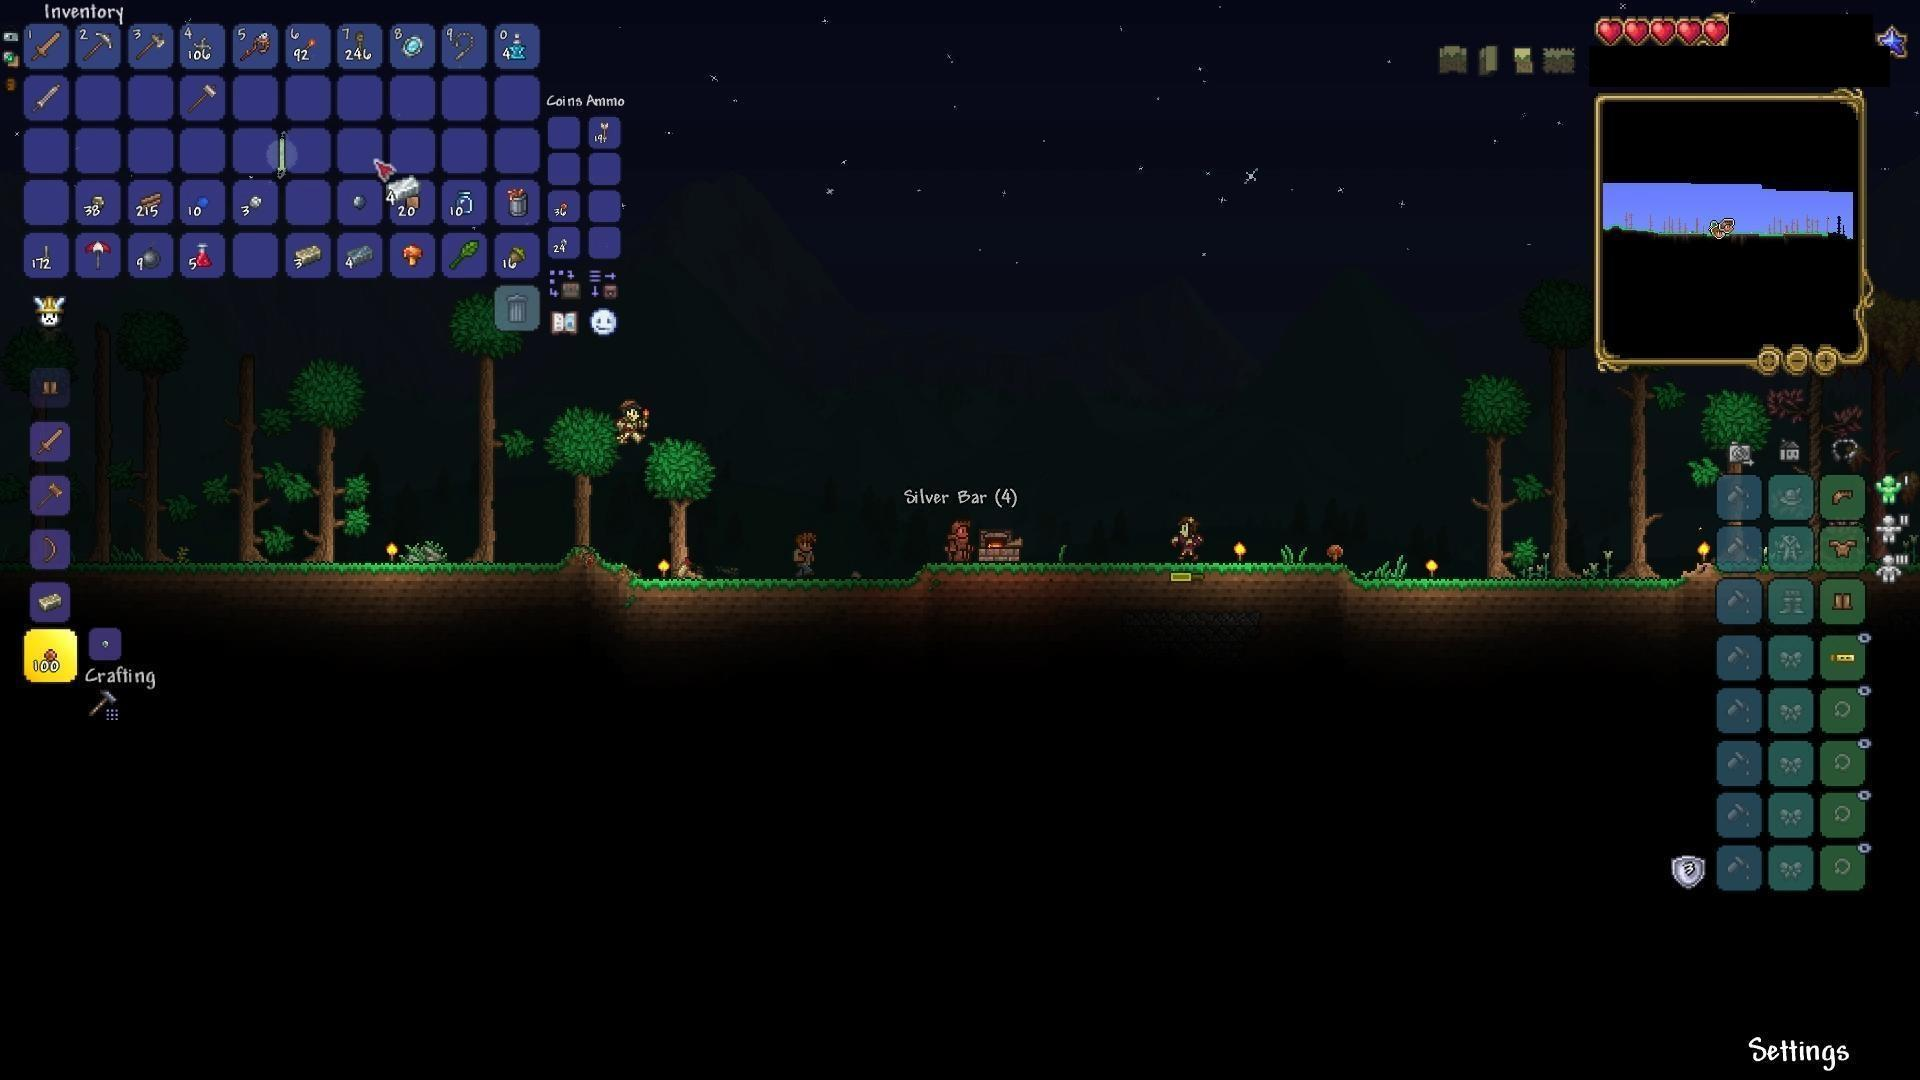dirt: (922, 558, 1354, 615), (265, 555, 549, 603), (1352, 575, 1673, 605), (75, 555, 270, 589), (756, 570, 924, 609), (628, 574, 775, 613), (542, 539, 637, 593)
heart: (1702, 17, 1733, 51), (1593, 16, 1626, 46), (1676, 15, 1704, 50), (1650, 16, 1676, 49), (1625, 15, 1651, 44)
tree: (280, 345, 360, 578), (451, 297, 513, 571), (546, 405, 617, 574), (638, 436, 703, 596), (1457, 372, 1506, 575)
